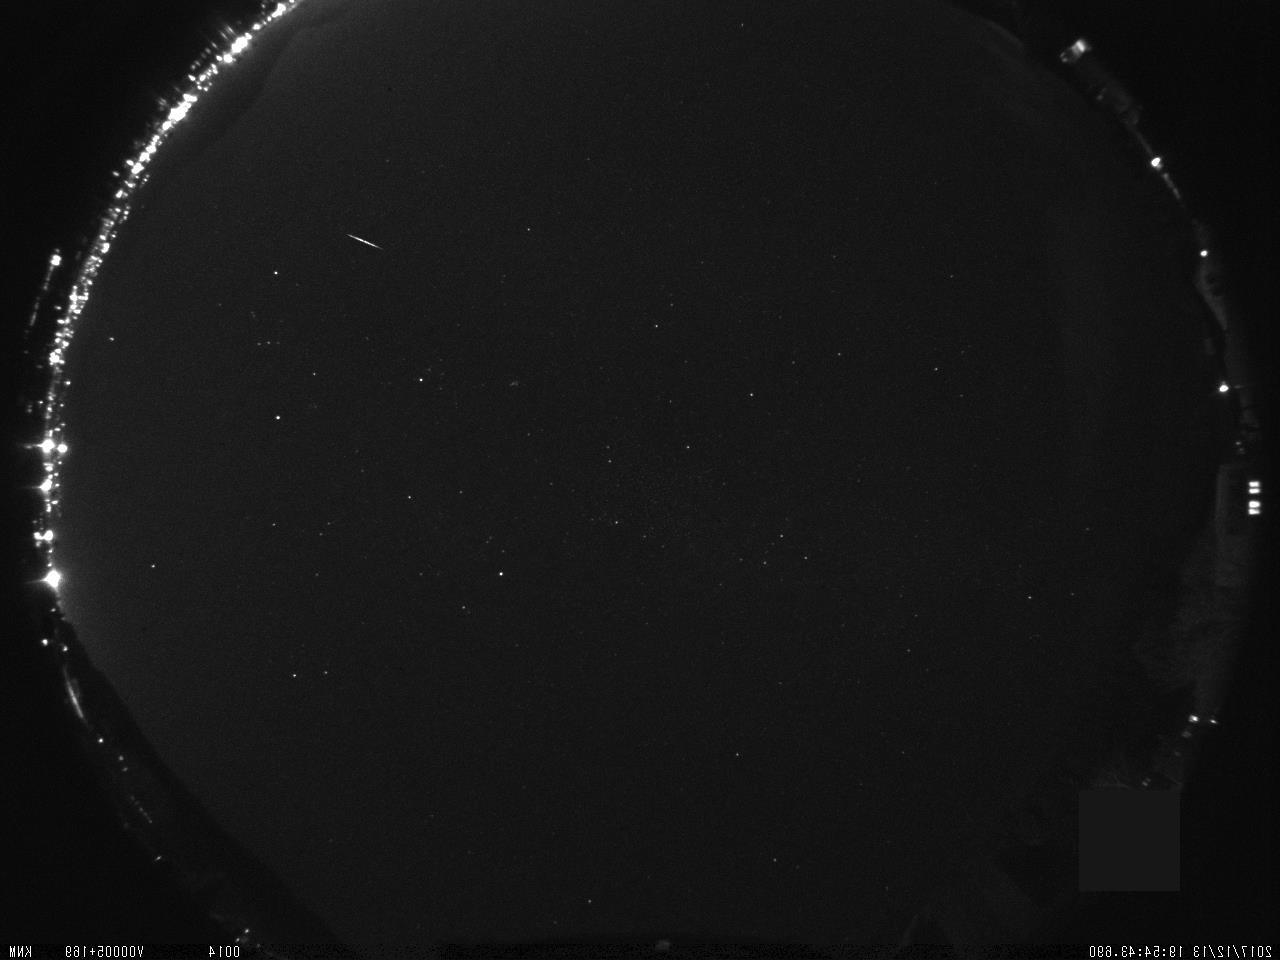meteor: (340, 227, 388, 255)
